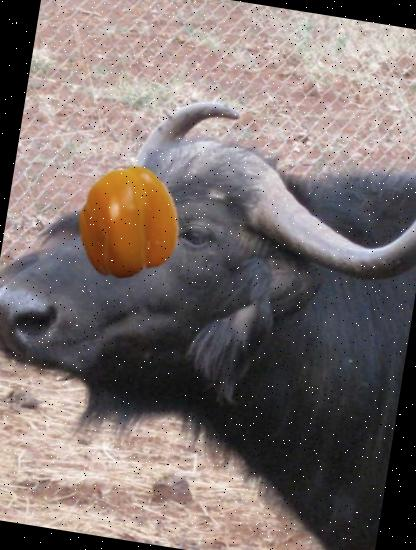Pepper: (65, 159, 192, 286)
